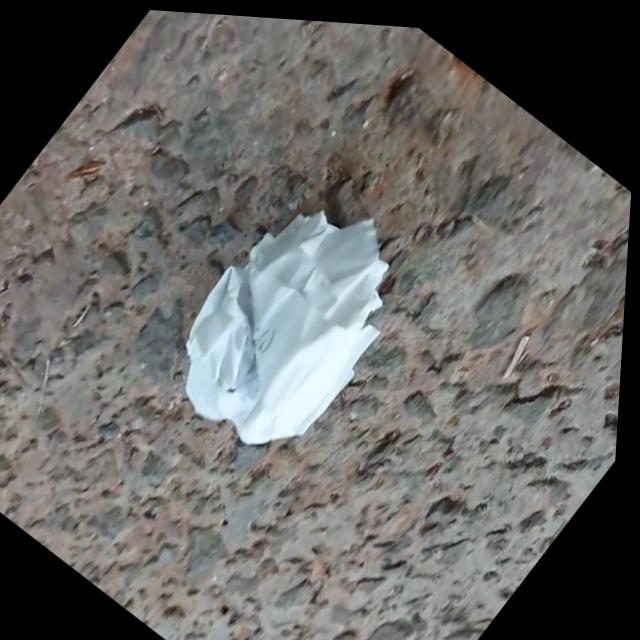paper: (186, 212, 387, 443)
